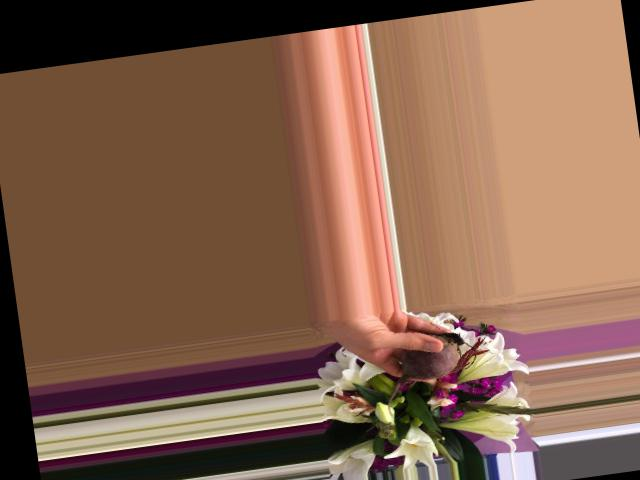beet: (379, 328, 483, 416)
